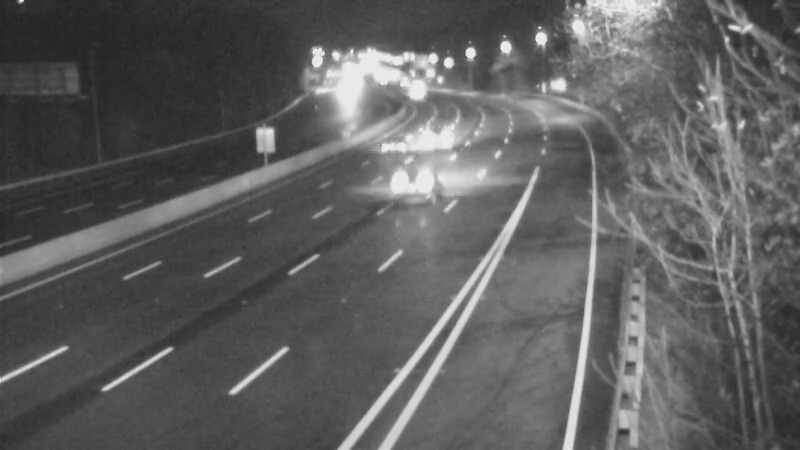vehicle: (370, 144, 450, 224), (391, 66, 441, 116), (419, 114, 469, 164), (359, 123, 409, 173)
